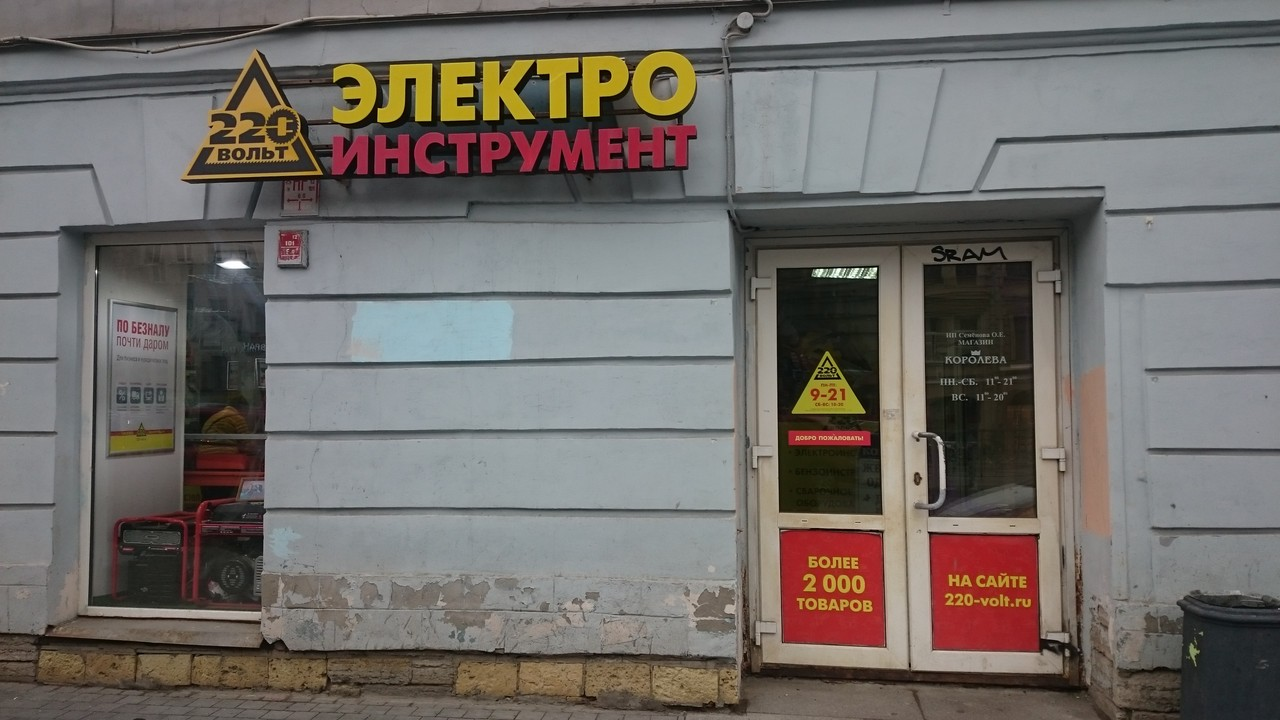door: (759, 245, 1061, 677)
signboard: (168, 41, 704, 175)
window: (75, 225, 267, 622)
